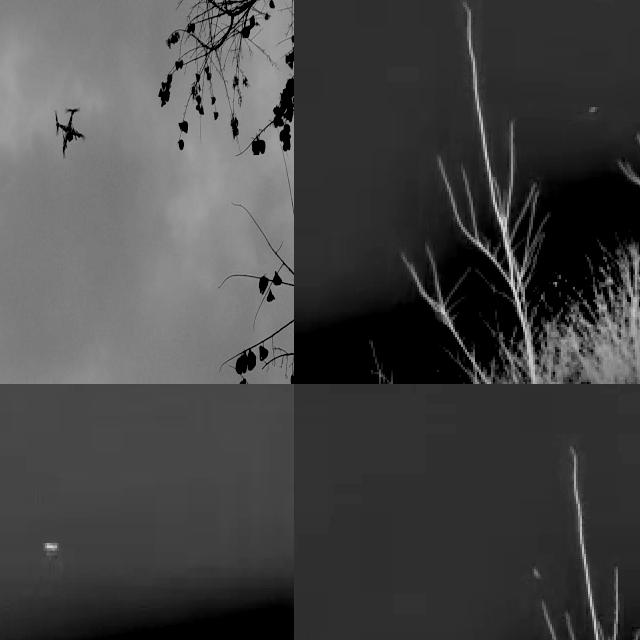0: (578, 97, 604, 127), (525, 562, 547, 588)
1: (34, 534, 68, 567)
drone: (48, 100, 88, 158)
